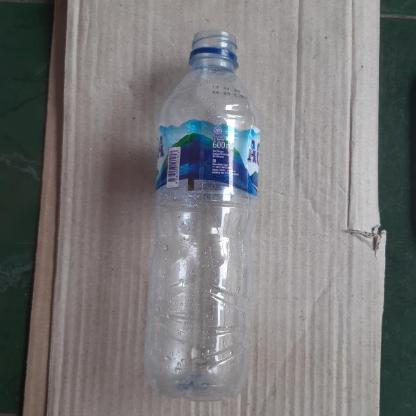Plastic Bottle: (142, 31, 260, 402)
